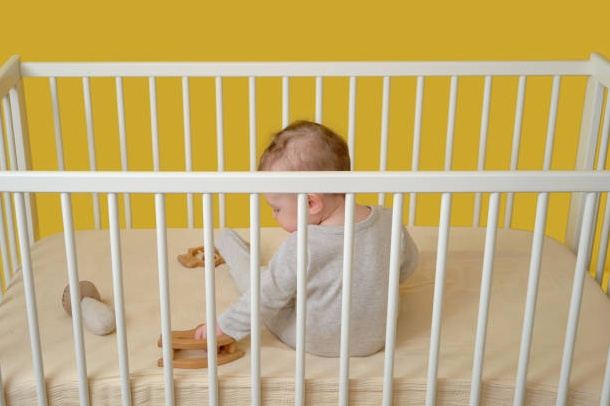baby: (305, 193, 344, 356)
crib: (0, 55, 609, 404)
